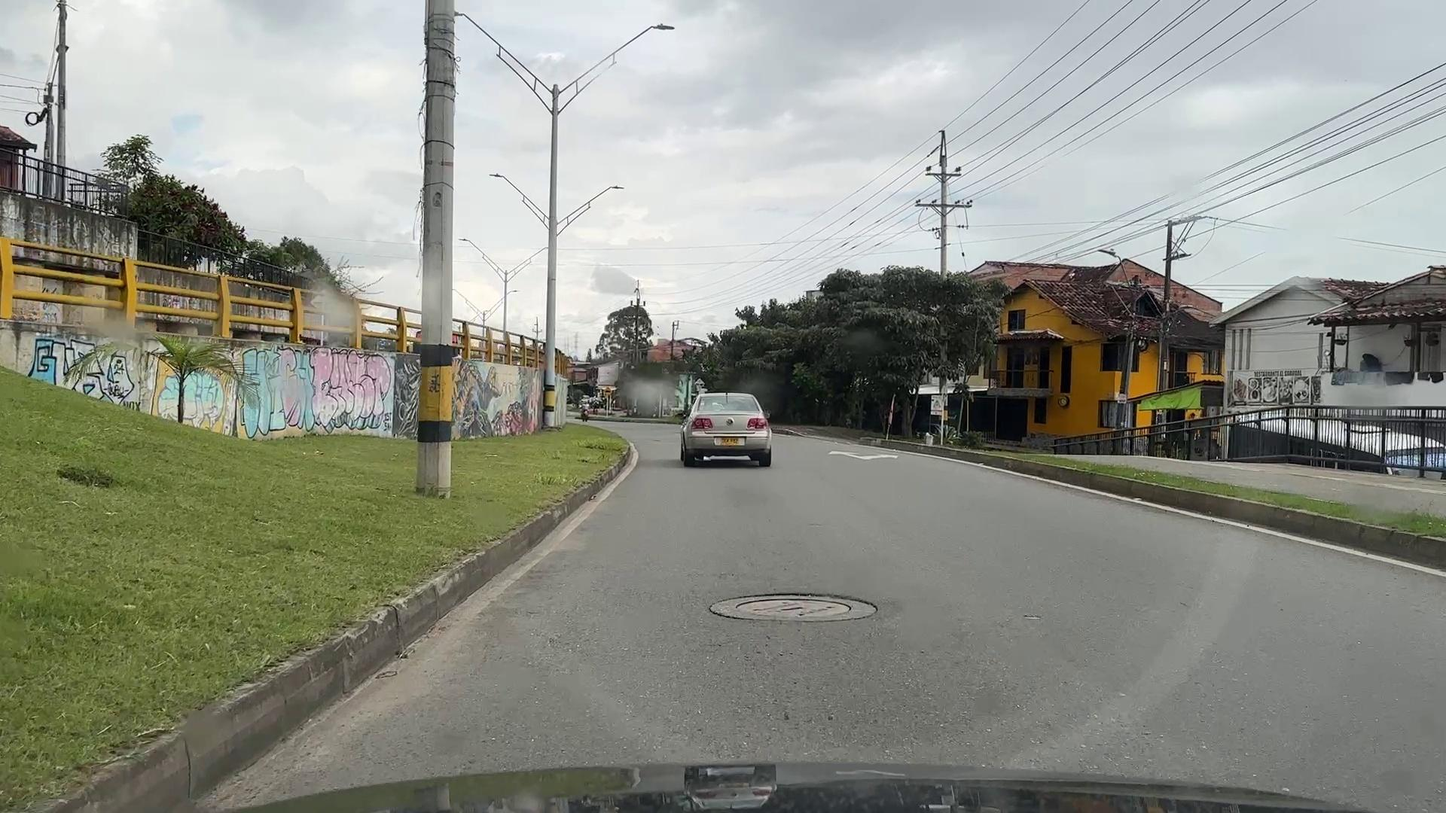registro: (736, 598, 851, 617)
